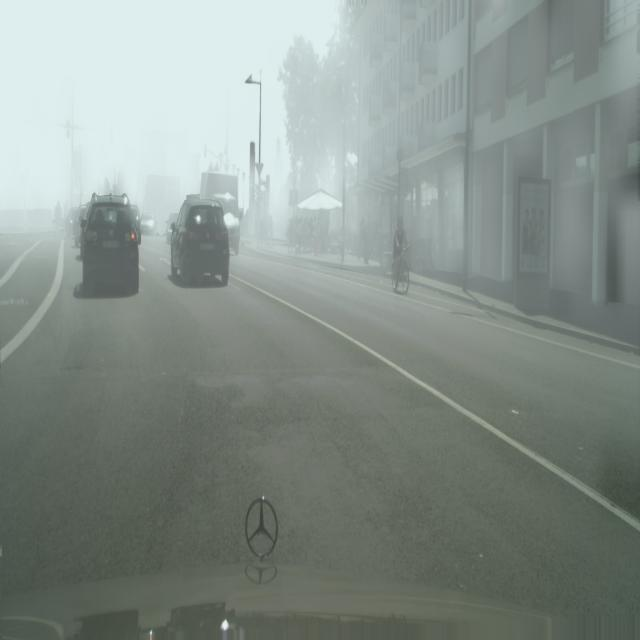bus: (392, 216, 409, 286), (358, 218, 369, 266), (53, 199, 62, 234), (287, 216, 294, 253), (268, 213, 273, 246)
car: (199, 171, 240, 257)
person: (80, 196, 140, 295), (170, 195, 230, 286), (68, 206, 80, 241), (139, 212, 155, 236)
truck: (392, 244, 410, 294)
